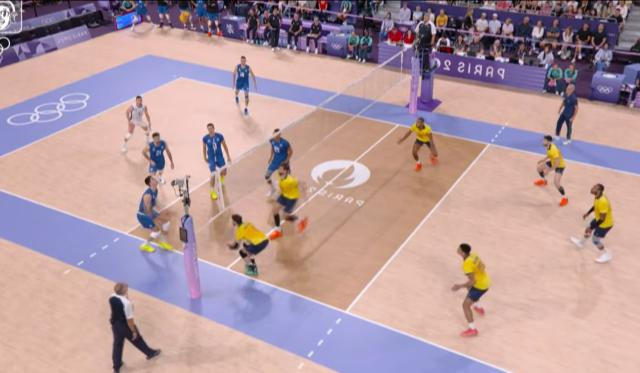Levantador: (227, 213, 269, 274)
Libero: (122, 94, 152, 136)
bola: (180, 10, 190, 24)
